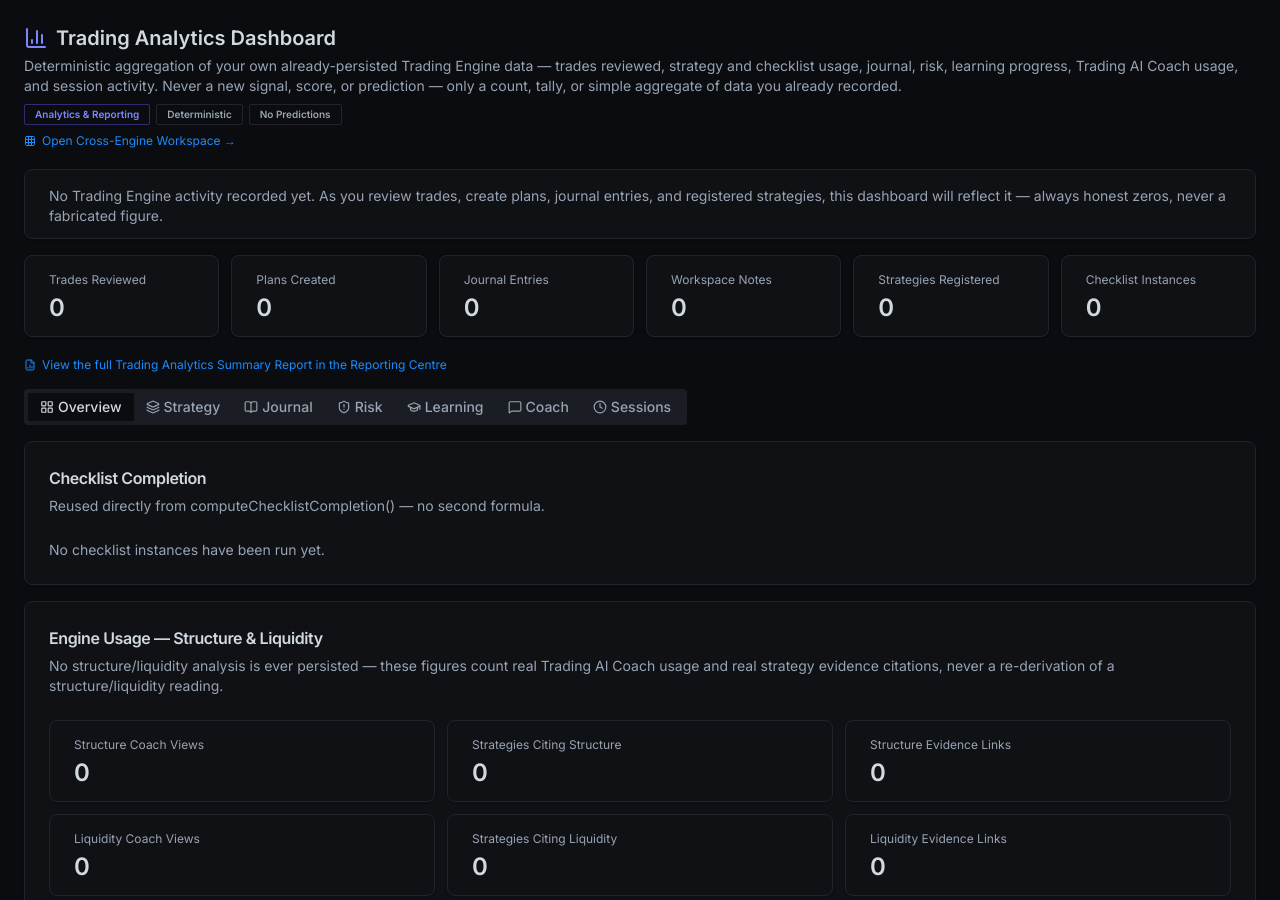
Scenario: TradingAnalyticsDashboard page › Sessions tab renders a real heatmap grid over the 4 session buckets, honestly empty when unclassified
What coordinates should you click on to do the following:
click the tab with test id "tab-session-analytics"
I would click on:
 (632, 407)
Its box is top-left (581, 393), bottom-right (683, 421).
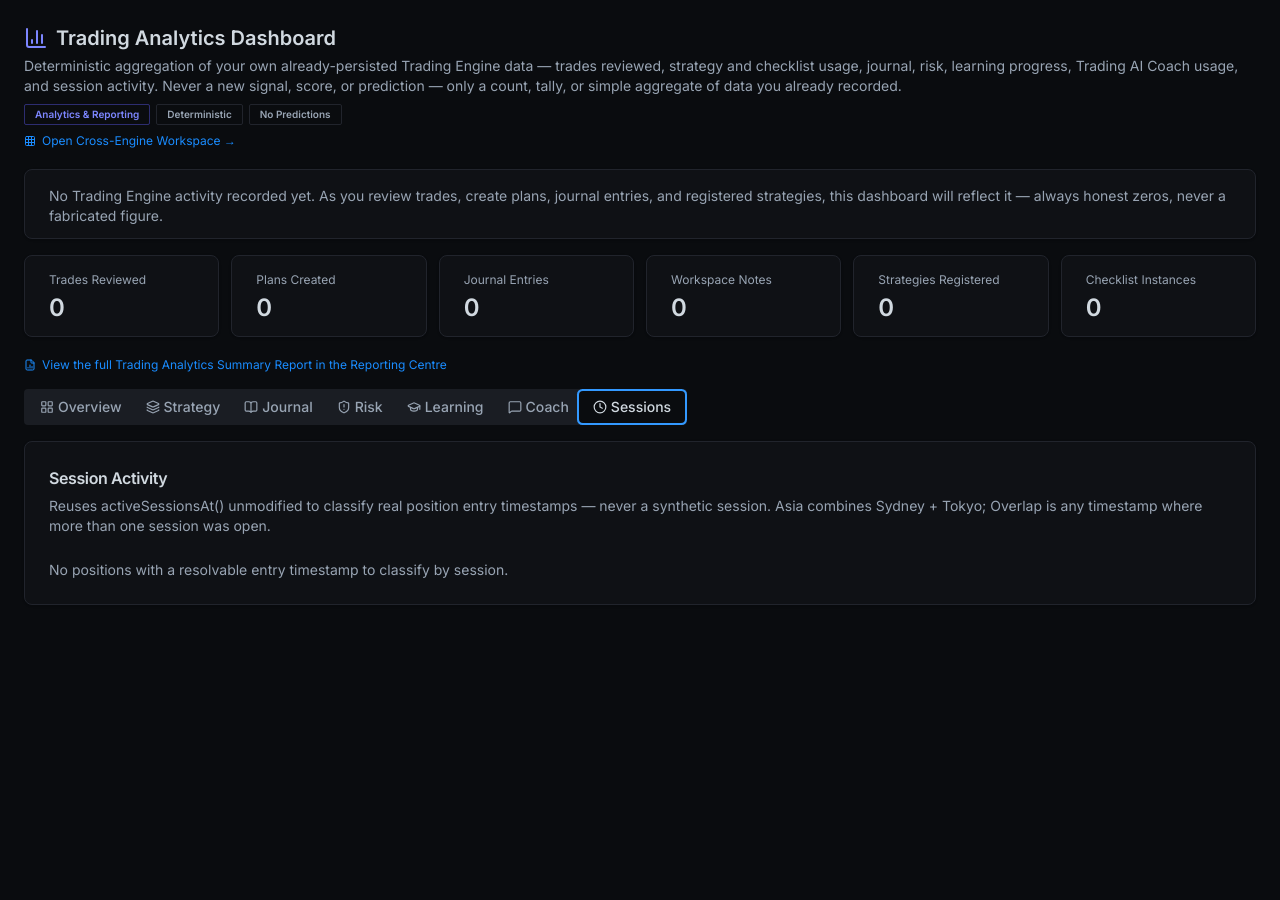
Expected: the text with test id "text-no-session-data" is shown, top-left (49, 561), bottom-right (508, 578)
